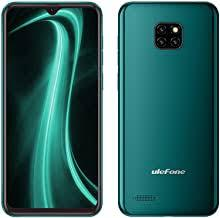Smartphone: (119, 1, 216, 210), (6, 2, 101, 211)
